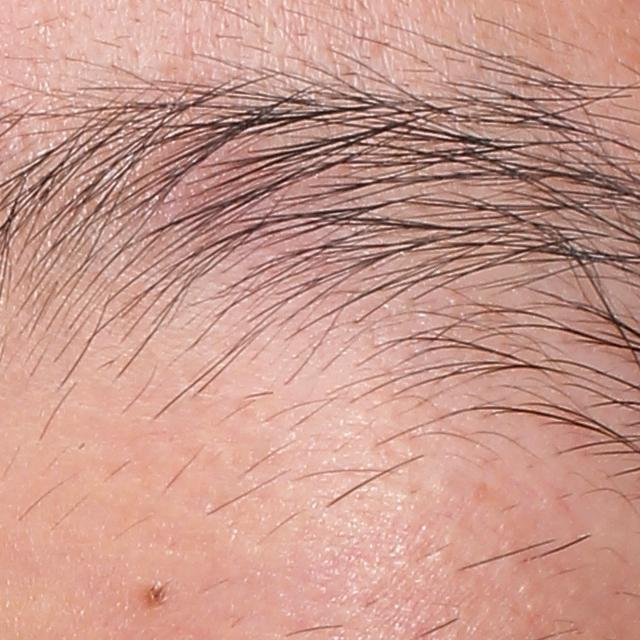nevus: (141, 577, 167, 609)
